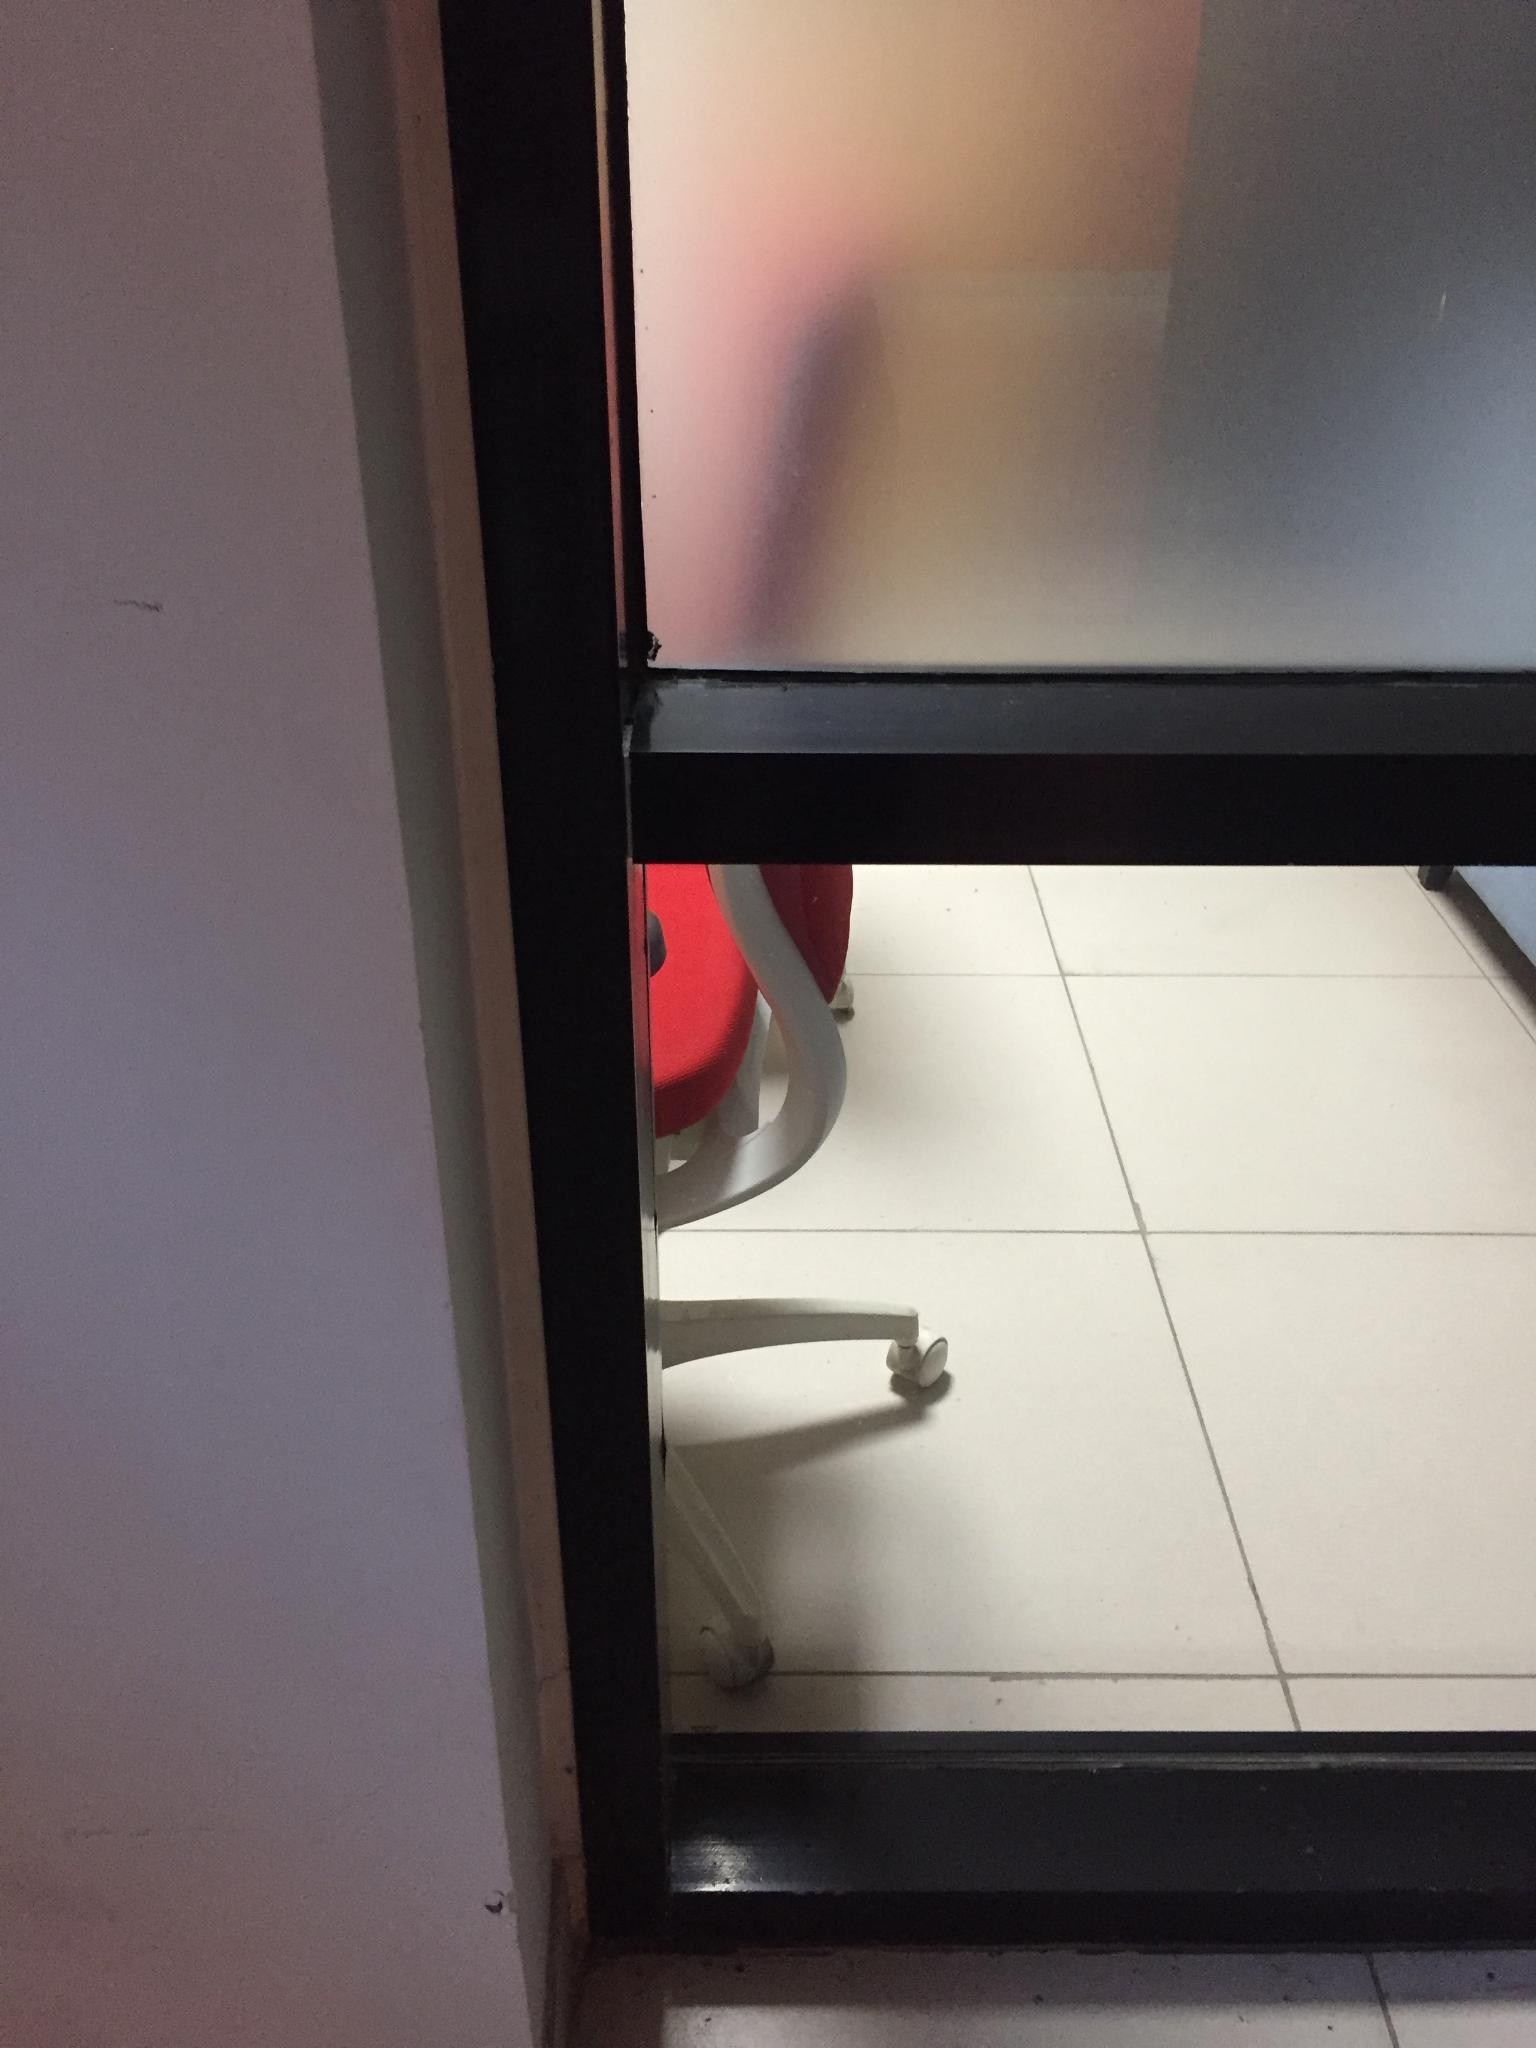chair: (423, 264, 970, 1709)
